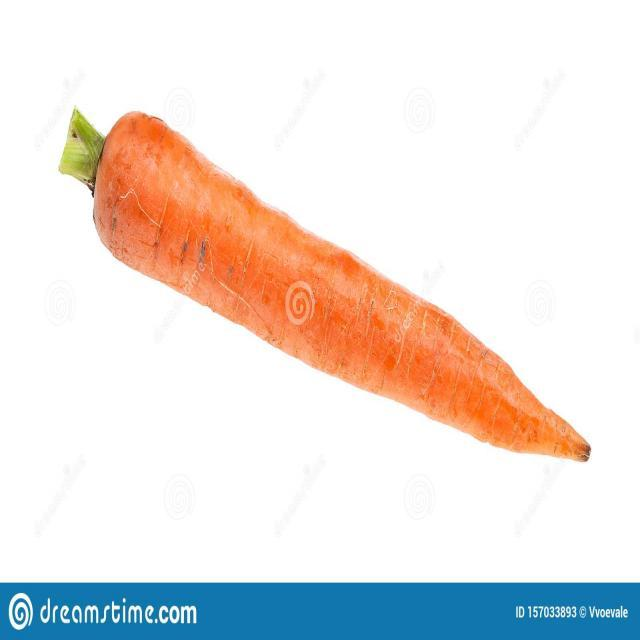Carrot: (64, 108, 592, 464)
